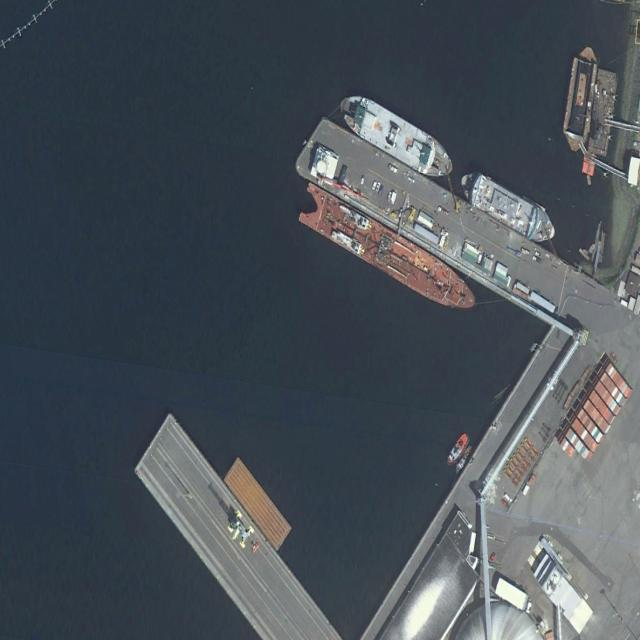Cargo: (298, 183, 479, 322)
Other Ship: (456, 164, 559, 250), (444, 428, 471, 470), (453, 442, 475, 476)
RoRo: (333, 86, 458, 189)
